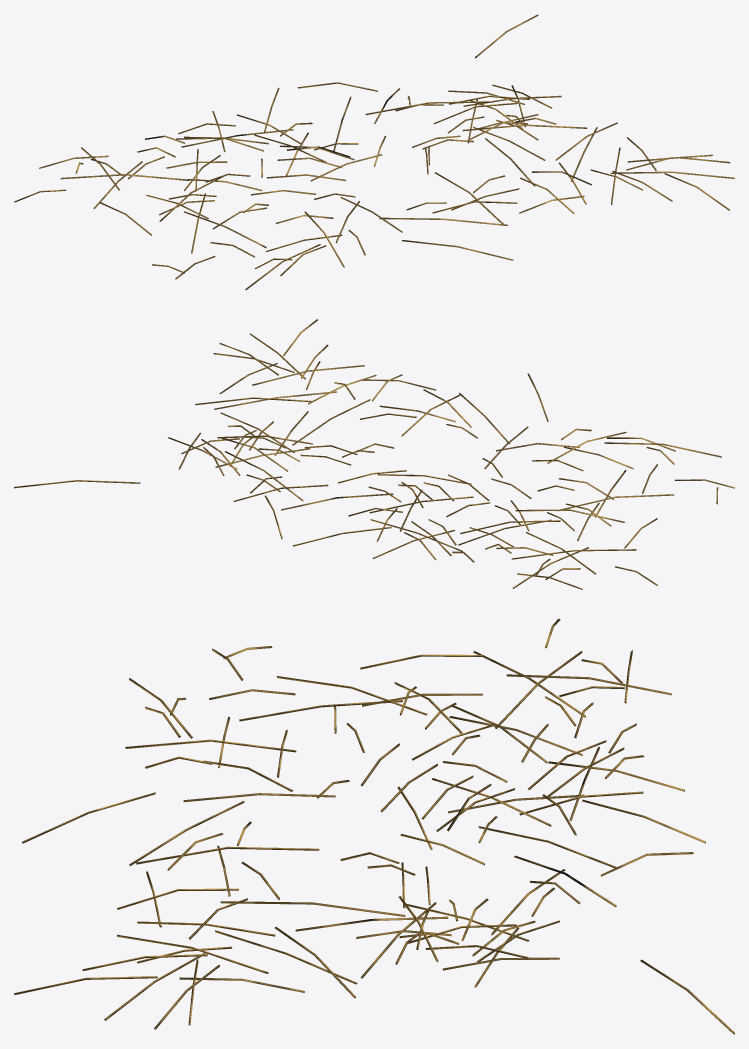
The model's file is straw-scatter.glb.
3 renders of one model, top to bottom at view 1: azimuth 30°, elevation 25°; view 2: azimuth 150°, elevation 25°; view 3: azimuth 270°, elevation 25°, orthographic. The views are drawn at different scales.
Visible parts, largest first — view 1: straw-scatter; view 2: straw-scatter; view 3: straw-scatter.
Part boxes in pixels (x1,y1,x2,y2): straw-scatter: [14, 14, 734, 290]; straw-scatter: [14, 319, 734, 589]; straw-scatter: [14, 618, 734, 1034].
Bounding box in the file's own units: 0.9342 × 0.0192 × 0.6867.
Materials: 1 (1 with a texture image).
